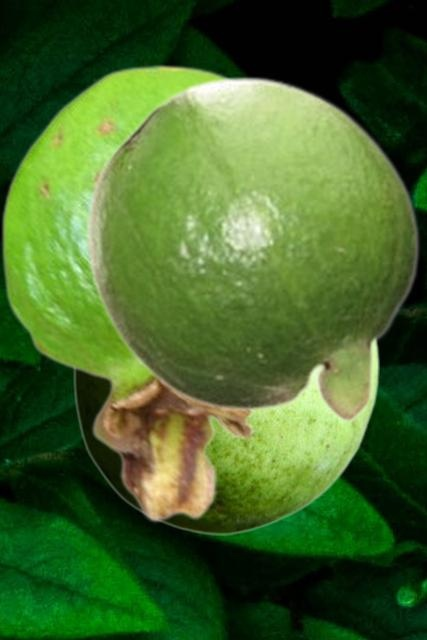guava: (0, 63, 257, 522), (84, 74, 419, 424), (73, 343, 378, 534)
